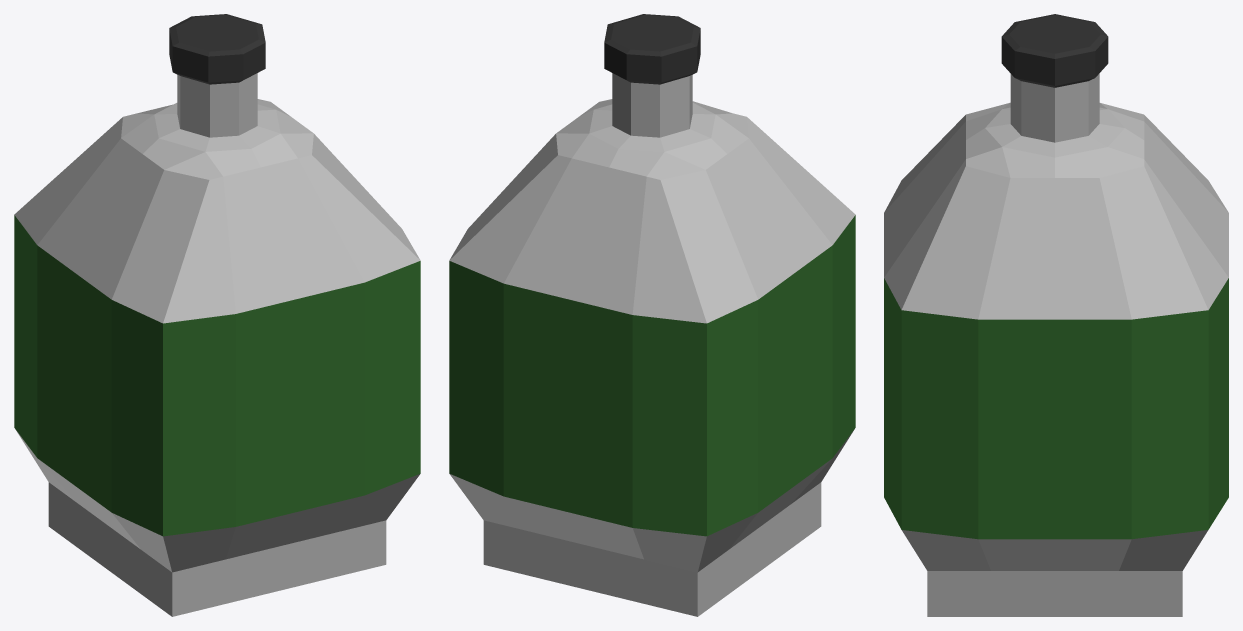
Rendered from Poison.fbx.
3 views of the same model, side by side, from view 1: azimuth 30°, elevation 25°; view 2: azimuth 150°, elevation 25°; view 3: azimuth 270°, elevation 25° (orthographic). The views are drawn at different scales.
Visible parts, largest first — view 1: PoisonLabel, Poison, PoisonLid; view 2: PoisonLabel, Poison, PoisonLid; view 3: Poison, PoisonLabel, PoisonLid.
Part boxes in pixels (left/top/right/bottom): PoisonLabel: left=14, top=215, right=420, bottom=536; Poison: left=14, top=73, right=420, bottom=616; PoisonLid: left=169, top=14, right=265, bottom=84; PoisonLabel: left=449, top=215, right=855, bottom=536; Poison: left=449, top=73, right=855, bottom=616; PoisonLid: left=604, top=14, right=700, bottom=84; Poison: left=884, top=73, right=1228, bottom=616; PoisonLabel: left=884, top=278, right=1228, bottom=539; PoisonLid: left=1001, top=14, right=1108, bottom=87.
Size of the model in its own units: 102 by 172 by 102.
